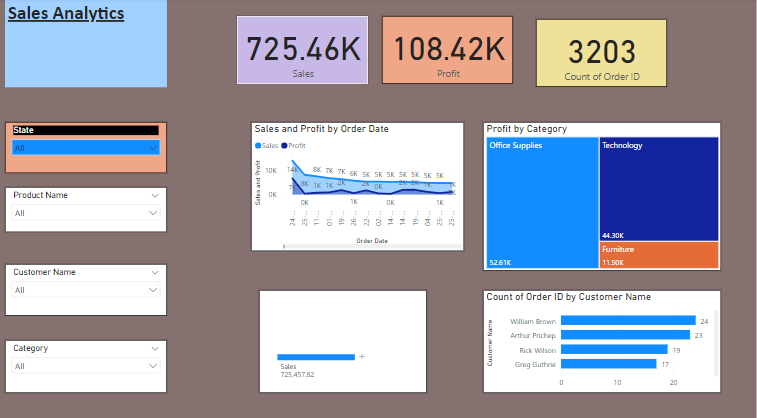

The page's visual inventory and layout, read from the dashboard file:
{"tool":"powerbi","page":{"name":"Sales","canvas":[1280,720],"ordinal":0},"visuals":[{"type":"treemap","fields":{"Group":["Walmart.Category"],"Values":["Walmart.Profit"]},"box":[821.4,208.3,399.8,250.3],"z":0},{"type":"areaChart","fields":{"Category":["Walmart.Order Date"],"Y":["Walmart.Sales","Walmart.Profit"]},"box":[431.7,208.3,357.8,216.7],"z":1000},{"type":"decompositionTreeVisual","fields":{"ExplainBy":["Walmart.Product Name","Walmart.Customer Name","Walmart.State","Walmart.Category"],"Analyze":["Walmart.Sales"]},"box":[445.1,490.5,282.2,173],"z":2000},{"type":"clusteredBarChart","fields":{"Category":["Walmart.Customer Name"],"Y":["Walmart.Order ID"]},"box":[821.4,490.5,399.8,173],"z":3000},{"type":"card","fields":{"Values":["Walmart.Sales"]},"box":[408.2,30.2,220.1,114.2],"z":4000},{"type":"card","fields":{"Values":["Walmart.Profit"]},"box":[651.8,30.2,220.1,114.2],"z":5000},{"type":"slicer","fields":{"Values":["Walmart.State"]},"box":[18.5,208.3,272.1,85.7],"z":6000},{"type":"textbox","box":[18,0,272,150],"z":7000},{"type":"slicer","fields":{"Values":["Walmart.Product Name"]},"box":[18.5,317.5,272.1,75.6],"z":8000},{"type":"slicer","fields":{"Values":["Walmart.Customer Name"]},"box":[18.5,446.8,272.1,87.3],"z":9000},{"type":"slicer","fields":{"Values":["Walmart.Category"]},"box":[18.5,574.5,272.1,89],"z":10000},{"type":"card","fields":{"Values":["Walmart.Order ID"]},"box":[910.4,35.3,220.1,114.2],"z":11000}]}

Visuals, with their boxes in screenshot pixels (x1, y1, x2, y2), scaled from the page's 1280x720 canvas onto the 757x418 screenshot:
treemap - Walmart.Category x Walmart.Profit: crop(486, 121, 722, 266)
areaChart - Walmart.Order Date x Walmart.Sales: crop(255, 121, 467, 247)
decompositionTreeVisual - Walmart.Product Name x Walmart.Customer Name: crop(263, 285, 430, 385)
clusteredBarChart - Walmart.Customer Name x Walmart.Order ID: crop(486, 285, 722, 385)
card - Walmart.Sales: crop(241, 18, 372, 84)
card - Walmart.Profit: crop(385, 18, 516, 84)
slicer - Walmart.State: crop(11, 121, 172, 171)
textbox: crop(11, 0, 172, 87)
slicer - Walmart.Product Name: crop(11, 184, 172, 228)
slicer - Walmart.Customer Name: crop(11, 259, 172, 310)
slicer - Walmart.Category: crop(11, 334, 172, 385)
card - Walmart.Order ID: crop(538, 20, 669, 87)
